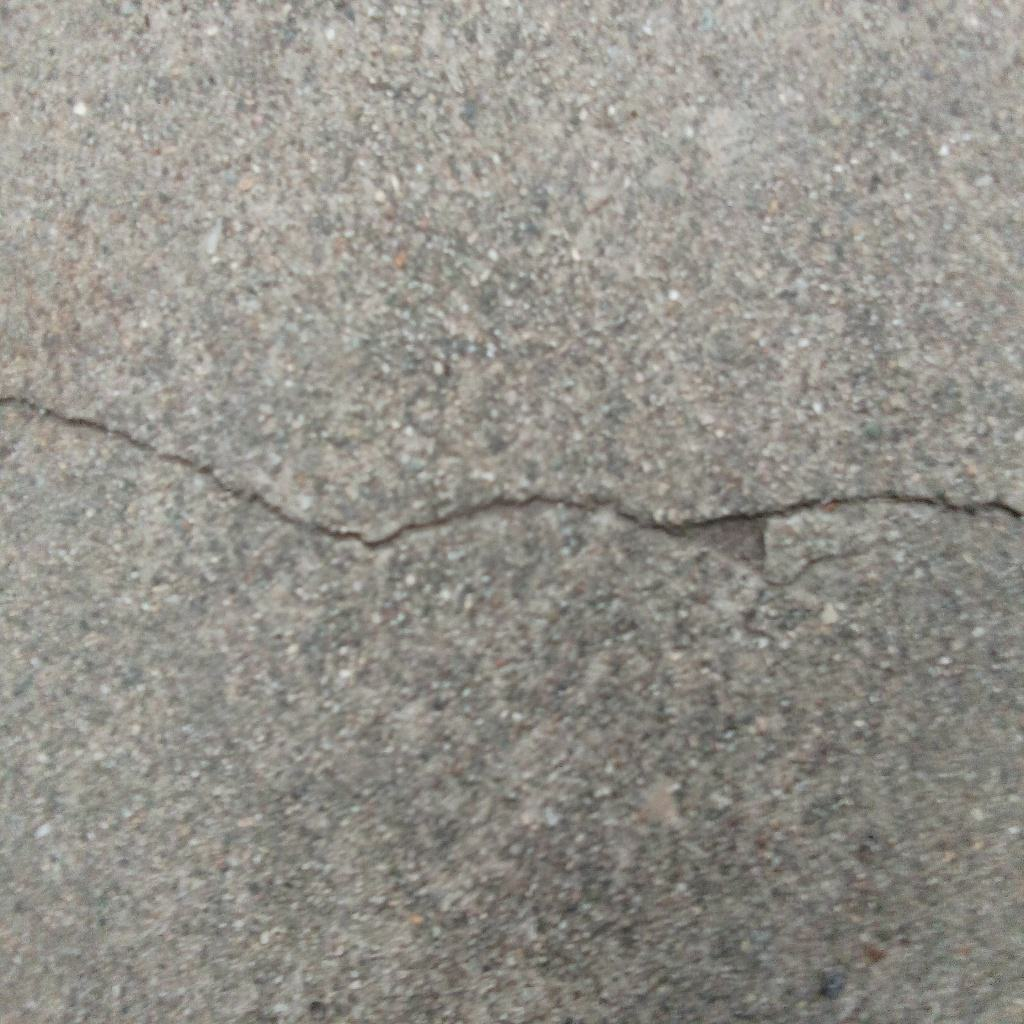Crack: (1, 394, 1024, 584)
